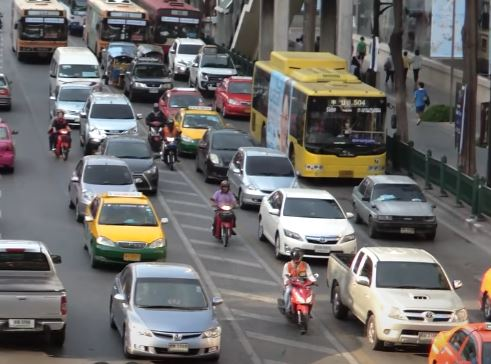Bus: (249, 50, 388, 179), (83, 1, 148, 57), (11, 1, 69, 60), (137, 1, 202, 52), (48, 46, 101, 95)
Car: (326, 245, 469, 352), (108, 260, 223, 362), (257, 186, 357, 260), (1, 237, 67, 348), (84, 191, 169, 267), (351, 174, 437, 239), (68, 155, 138, 218), (224, 147, 298, 206), (95, 138, 159, 194), (80, 91, 139, 150), (197, 128, 253, 184), (172, 105, 227, 156), (124, 56, 175, 99), (50, 84, 95, 128), (189, 51, 235, 92), (214, 75, 253, 122), (156, 87, 204, 125)
Motorcycle: (277, 247, 321, 332), (210, 179, 240, 247), (48, 109, 74, 160), (160, 119, 181, 167), (146, 103, 166, 150)
